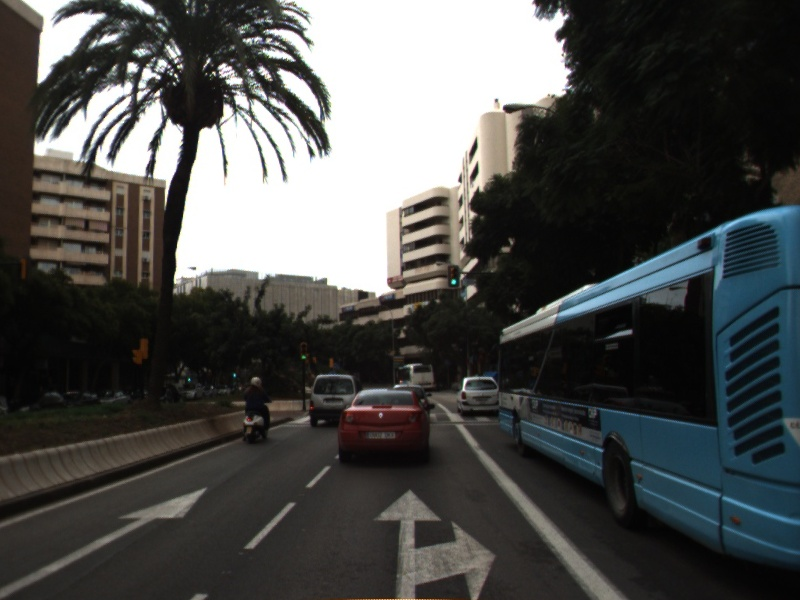STRAIGHT: (1, 482, 214, 600)
STRAIGHT_RIGHT: (368, 484, 501, 600)
